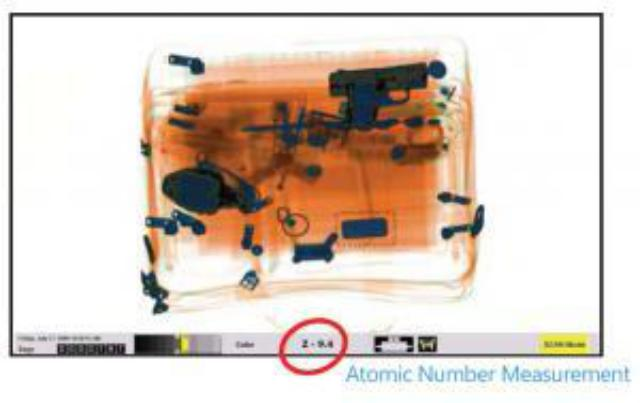Gun: (322, 58, 428, 116)
